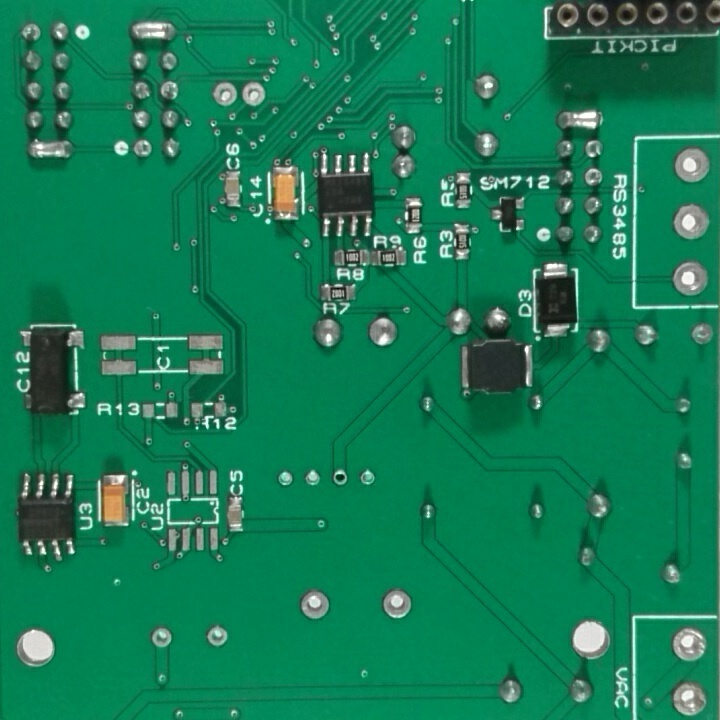F: (670, 201, 713, 246), (668, 143, 713, 186), (666, 677, 712, 718), (668, 259, 713, 299), (667, 624, 708, 667), (380, 584, 415, 624), (297, 588, 333, 623), (687, 320, 716, 349), (146, 625, 174, 654), (204, 623, 232, 651), (210, 81, 239, 108), (240, 80, 267, 109), (19, 21, 45, 46), (582, 165, 606, 192), (159, 79, 181, 105), (130, 139, 154, 162), (301, 466, 323, 491), (275, 465, 296, 490), (330, 468, 351, 490), (357, 468, 377, 490)
P: (26, 135, 79, 164), (553, 106, 607, 133), (127, 18, 181, 43)
